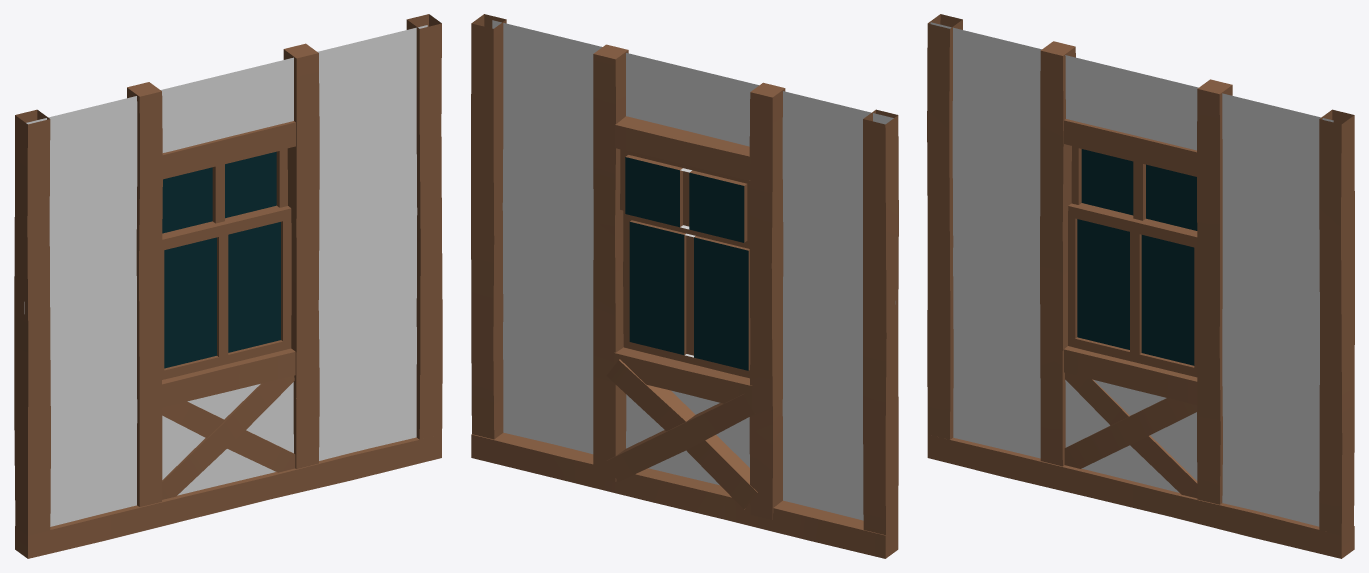
Rendered from PlasterWallWindow.fbx.
3 views of the same model, side by side, from view 1: azimuth 30°, elevation 25°; view 2: azimuth 150°, elevation 25°; view 3: azimuth 330°, elevation 25° (orthographic).
Parts seen in each view (by area): view 1: Plaster Wall Window; view 2: Plaster Wall Window; view 3: Plaster Wall Window.
Part boxes in pixels (x1,y1,x2,y2): Plaster Wall Window: (14, 14, 442, 558); Plaster Wall Window: (471, 14, 898, 558); Plaster Wall Window: (927, 14, 1354, 558).
Size of the model in its own units: 206 by 206 by 13.68.
